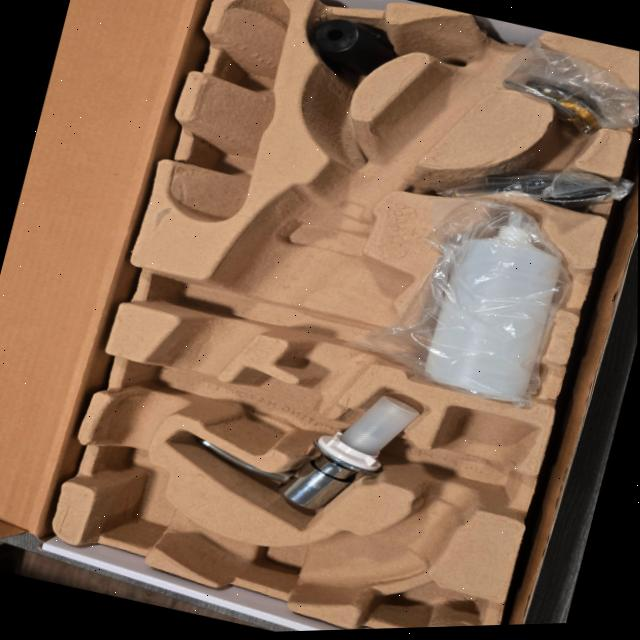1m: (95, 17, 541, 604)
2: (196, 393, 420, 514)
3: (420, 206, 562, 404)
4m: (174, 0, 291, 221)
5: (309, 18, 399, 75)
6: (501, 39, 639, 135)
7: (429, 170, 630, 207)
